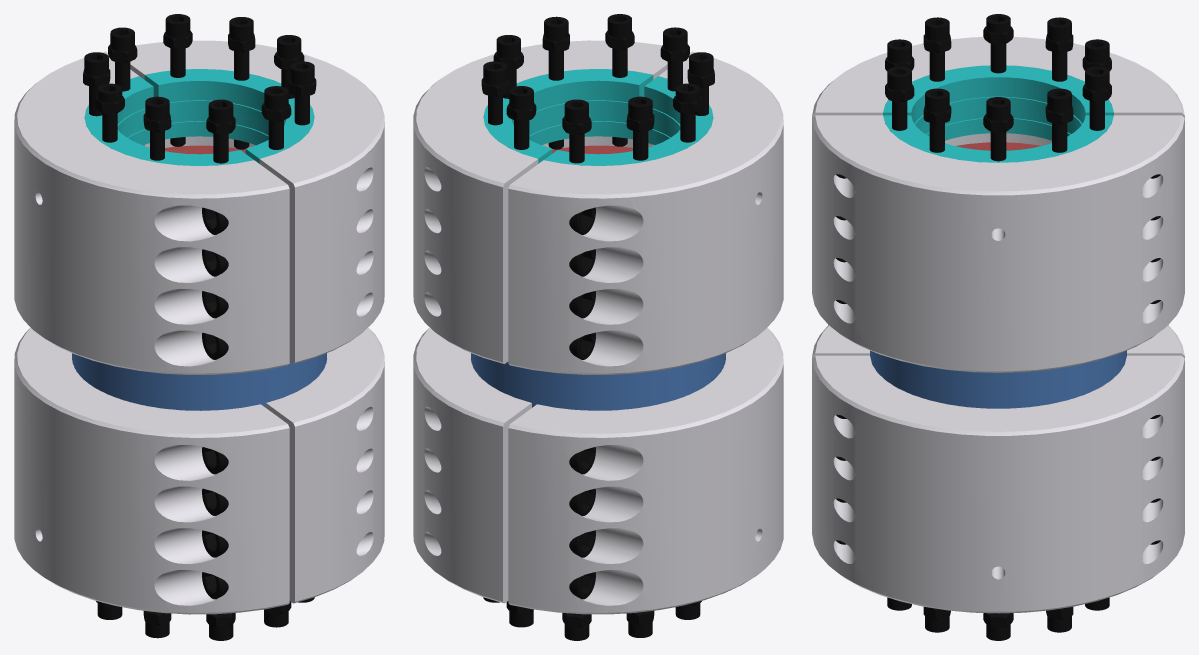
3 views of the same model, side by side, from view 1: azimuth 30°, elevation 25°; view 2: azimuth 150°, elevation 25°; view 3: azimuth 270°, elevation 25° (orthographic).
Visible parts, largest first — view 1: clamshell.001, clamshell.003, clamshell.000, clamshell.002, joining stock, spigot ring 0, spigot ring 1, bolts_zl.003, bolts_zl.004, bolts_zl.008, bolts_zl.006, bolts_zl.007 (+5 smaller); view 2: clamshell.001, clamshell.003, clamshell.000, clamshell.002, joining stock, spigot ring 0, spigot ring 1, bolts_zl.007, bolts_zl.006, bolts_zl.001, bolts_zl.002, bolts_zl.003 (+5 smaller); view 3: clamshell.000, clamshell.002, clamshell.001, spigot ring 1, joining stock, spigot ring 0, clamshell.003, bolts_zl.005, bolts_zl.002, bolts_zl.009, bolts_zl.003, bolts_zl.007 (+5 smaller).
Boxes of the visible parts, x1,y1,x2,y2 form: clamshell.001: (14, 51, 289, 374); clamshell.003: (14, 328, 289, 614); clamshell.000: (130, 40, 384, 363); clamshell.002: (266, 327, 384, 603); joining stock: (72, 353, 326, 410); spigot ring 0: (144, 69, 314, 163); spigot ring 1: (84, 76, 253, 165); bolts_zl.003: (165, 14, 190, 146); bolts_zl.004: (229, 17, 253, 149); bolts_zl.008: (208, 99, 233, 163); bolts_zl.006: (290, 61, 314, 125); bolts_zl.007: (264, 86, 288, 149); clamshell.001: (508, 51, 783, 374); clamshell.003: (508, 327, 783, 614); clamshell.000: (413, 40, 667, 363); clamshell.002: (413, 327, 531, 603); joining stock: (471, 353, 725, 410); spigot ring 0: (483, 69, 653, 163); spigot ring 1: (544, 76, 713, 165); bolts_zl.007: (607, 14, 631, 146); bolts_zl.006: (544, 16, 568, 149); bolts_zl.001: (564, 99, 588, 163); bolts_zl.002: (628, 96, 652, 160); bolts_zl.003: (509, 86, 533, 149); clamshell.000: (812, 115, 1184, 372); clamshell.002: (812, 355, 1184, 613); clamshell.001: (812, 37, 1184, 145); spigot ring 1: (883, 65, 1113, 140); joining stock: (870, 350, 1126, 408); spigot ring 0: (883, 115, 1113, 162); clamshell.003: (812, 325, 1184, 358); bolts_zl.005: (986, 97, 1010, 161); bolts_zl.002: (1047, 17, 1071, 81); bolts_zl.009: (925, 17, 949, 81); bolts_zl.003: (1085, 66, 1109, 130); bolts_zl.007: (887, 66, 911, 130).
Size of the model in its own units: 242 by 382 by 242.
